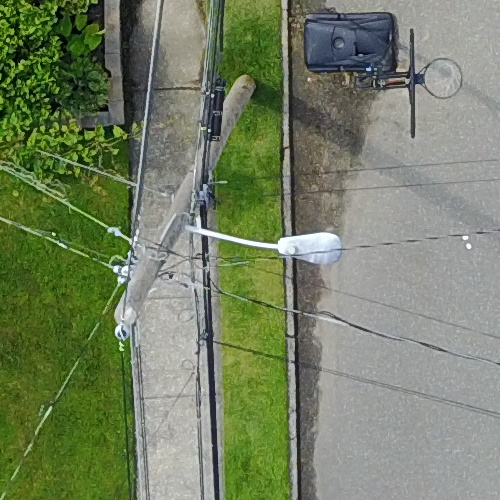basketball: (297, 3, 470, 143)
